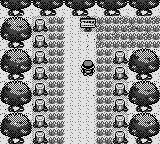captura: (96, 17, 160, 143), (49, 17, 64, 143)
leer: (80, 18, 96, 31)
main: (80, 61, 95, 75)
no-caminable: (1, 16, 32, 143), (128, 49, 160, 143), (32, 19, 48, 143), (113, 51, 128, 143)
